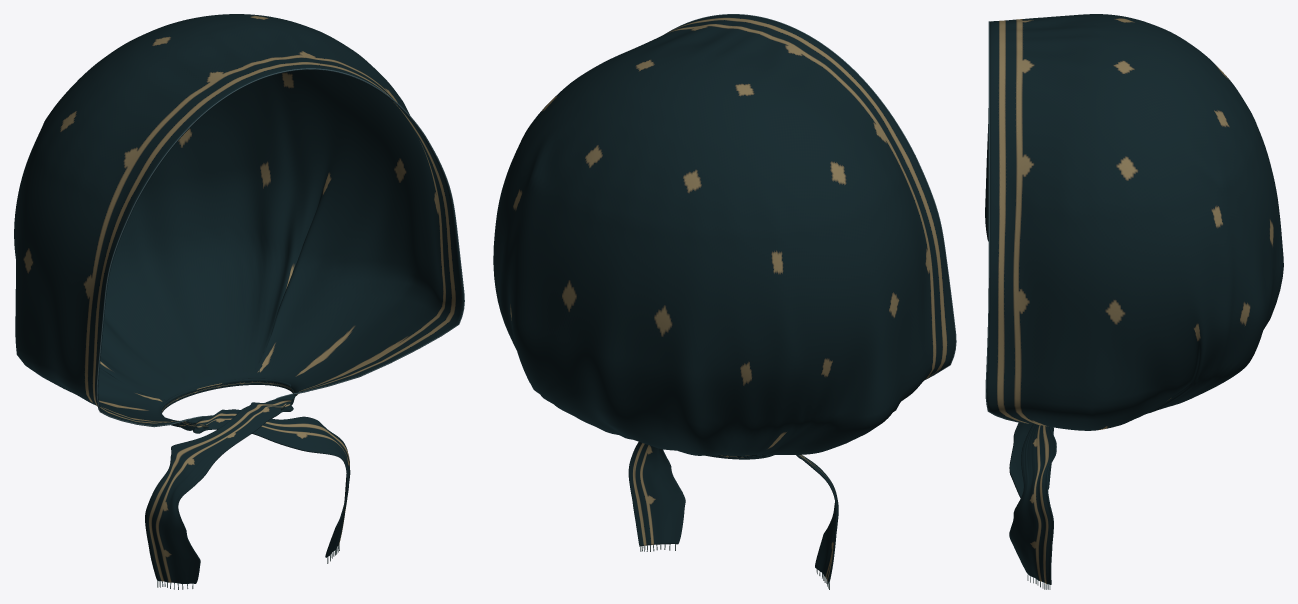
Rendered from Feminine-bandeau-pashmina246-headgear.glb.
The picture shows the model from 3 angles, left to right: view 1: azimuth 30°, elevation 25°; view 2: azimuth 150°, elevation 25°; view 3: azimuth 270°, elevation 25°; orthographic projection. The views are drawn at different scales.
Visible parts, largest first — view 1: 226 headgear / Headwear / continuous woven pashmina239, 226 headgear / Headwear / face edge239; view 2: 226 headgear / Headwear / continuous woven pashmina239, 226 headgear / Headwear / face edge239; view 3: 226 headgear / Headwear / continuous woven pashmina239, 226 headgear / Headwear / face edge239.
Boxes of the visible parts, x1,y1,x2,y2 form: 226 headgear / Headwear / continuous woven pashmina239: [14, 14, 463, 583]; 226 headgear / Headwear / face edge239: [96, 68, 464, 427]; 226 headgear / Headwear / continuous woven pashmina239: [493, 14, 955, 583]; 226 headgear / Headwear / face edge239: [664, 14, 956, 379]; 226 headgear / Headwear / continuous woven pashmina239: [985, 14, 1283, 584]; 226 headgear / Headwear / face edge239: [985, 21, 1027, 423].
Size of the model in its own units: 1.02 by 1.35 by 0.7116.
3 materials, 1 textured.
